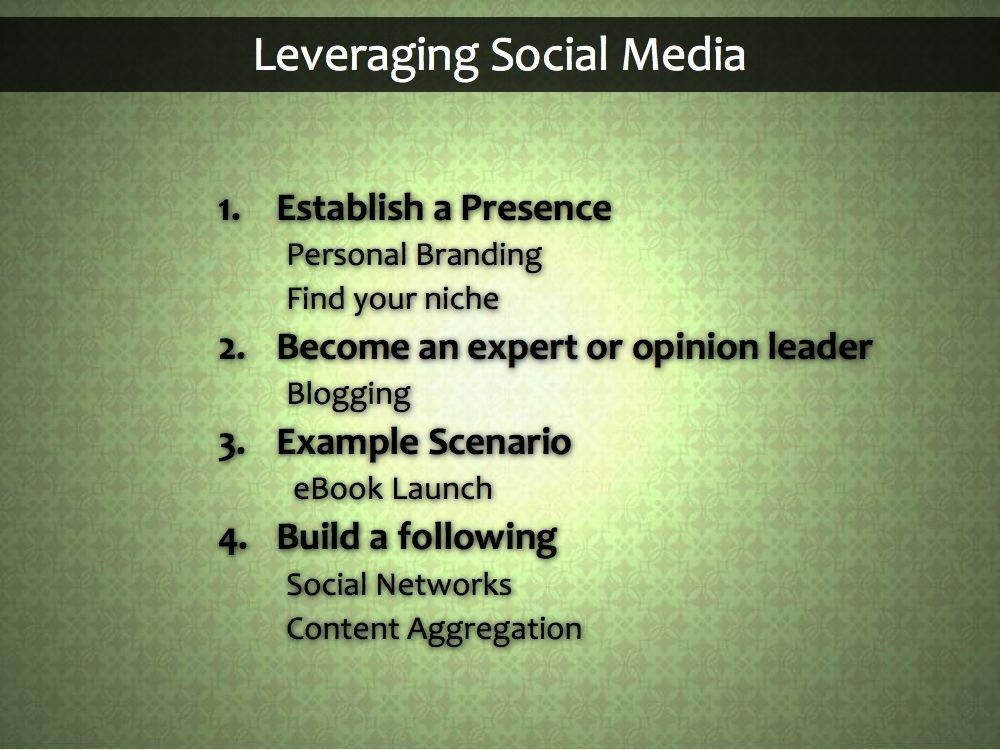paragraph: (175, 173, 932, 674)
title: (238, 23, 766, 98)
